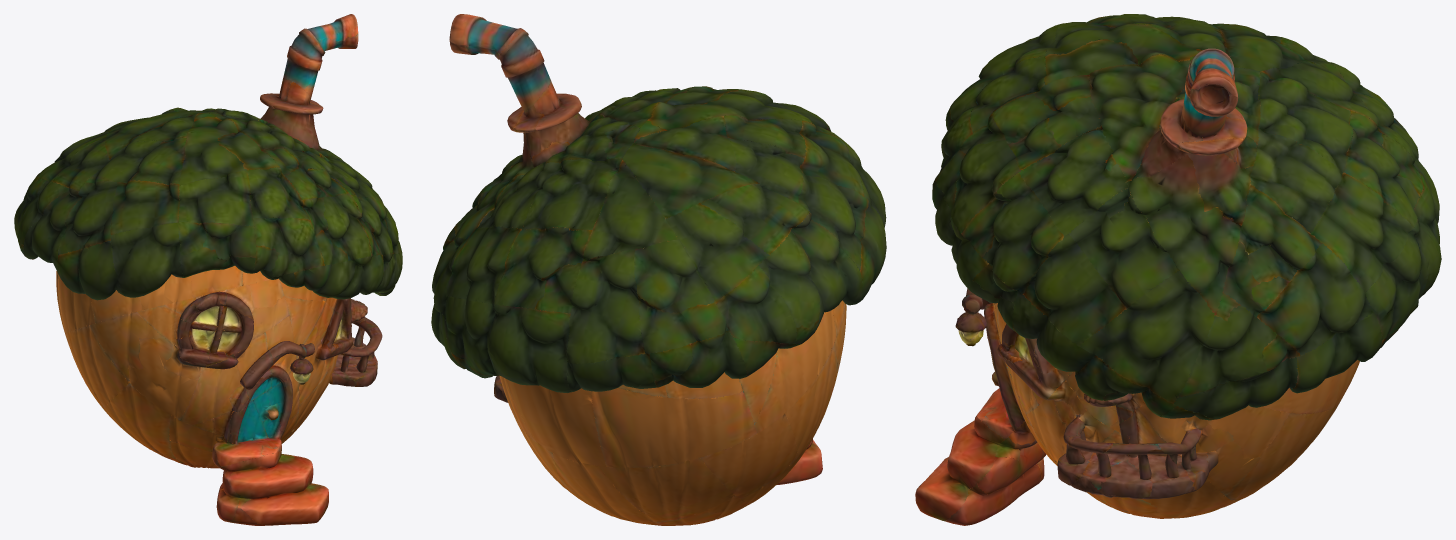
Rendered from acorn-cottage.glb.
The picture shows the model from 3 angles, left to right: view 1: azimuth 30°, elevation 25°; view 2: azimuth 150°, elevation 25°; view 3: azimuth 270°, elevation 25°; orthographic projection. The views are drawn at different scales.
Visible parts, largest first — view 1: Mesh_0; view 2: Mesh_0; view 3: Mesh_0.
Boxes of the visible parts, x1,y1,x2,y2 form: Mesh_0: (14, 14, 402, 525); Mesh_0: (431, 14, 886, 525); Mesh_0: (915, 14, 1441, 525).
Bounding box in the file's own units: 1.66 × 1.9 × 1.71.
Materials: 1 (1 with a texture image).
